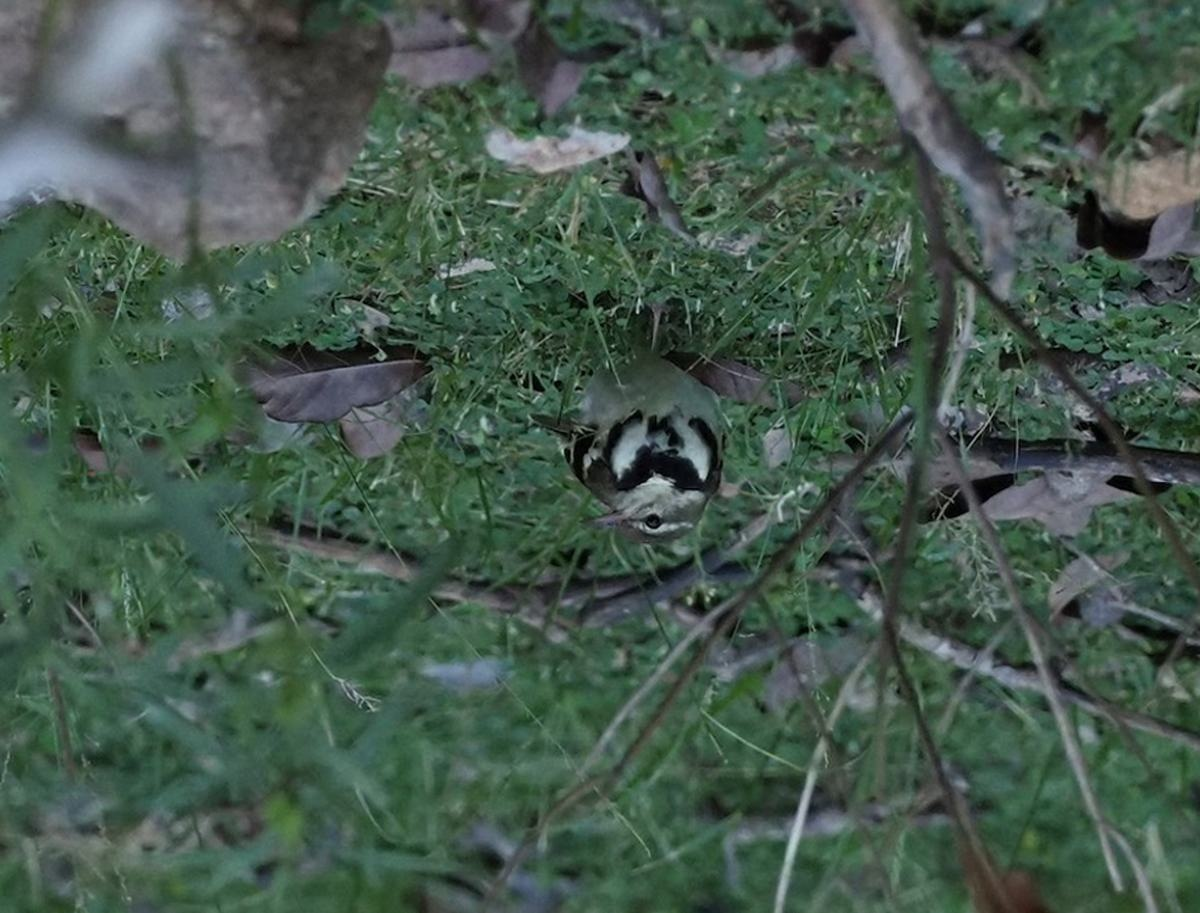wagtail: (581, 377, 726, 532)
